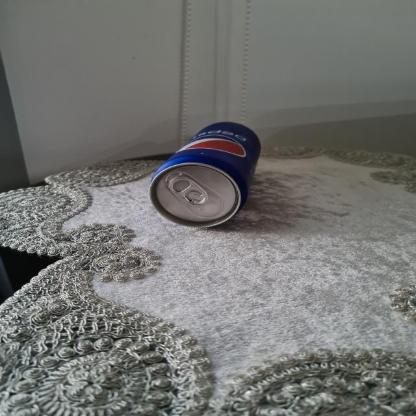Can: (150, 123, 260, 229)
